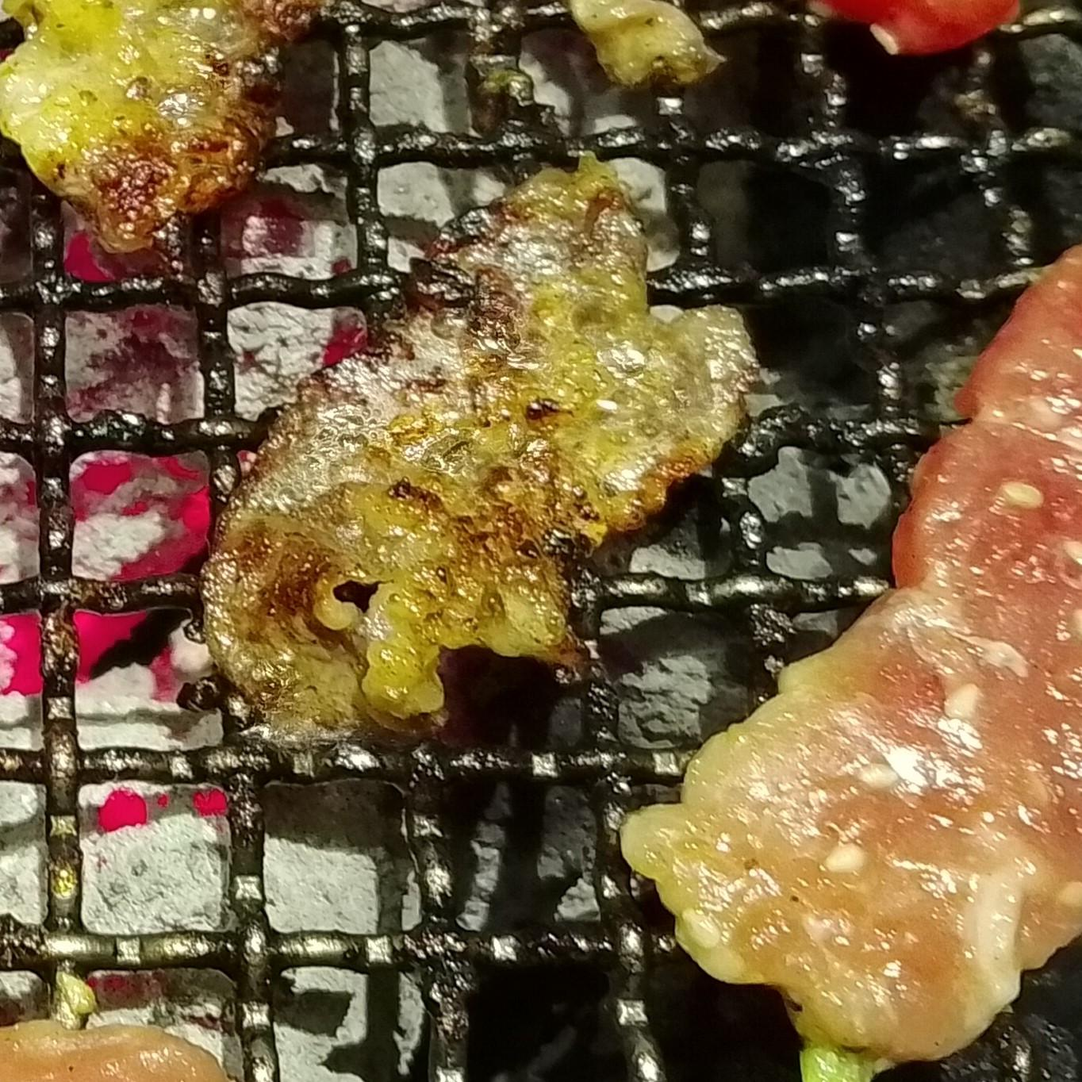Overcooked: (201, 157, 762, 747), (0, 0, 327, 257)
Undercooked: (621, 243, 1081, 1072), (0, 1024, 231, 1081)
